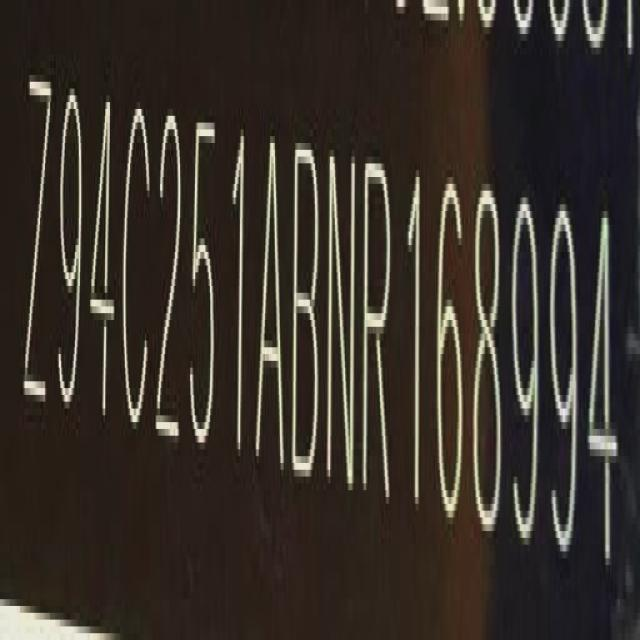1: (230, 120, 249, 470), (408, 170, 426, 524)
2: (156, 102, 186, 452)
4: (589, 214, 621, 583), (90, 87, 118, 429)
5: (190, 106, 219, 461)
6: (435, 175, 466, 524)
8: (472, 182, 502, 535)
9: (510, 190, 543, 552), (546, 200, 578, 566), (52, 79, 83, 424)
A: (257, 123, 288, 475)
B: (295, 137, 325, 485)
C: (121, 100, 157, 446)
N: (328, 138, 358, 494)
R: (362, 150, 395, 500)
Z: (20, 63, 50, 419)
